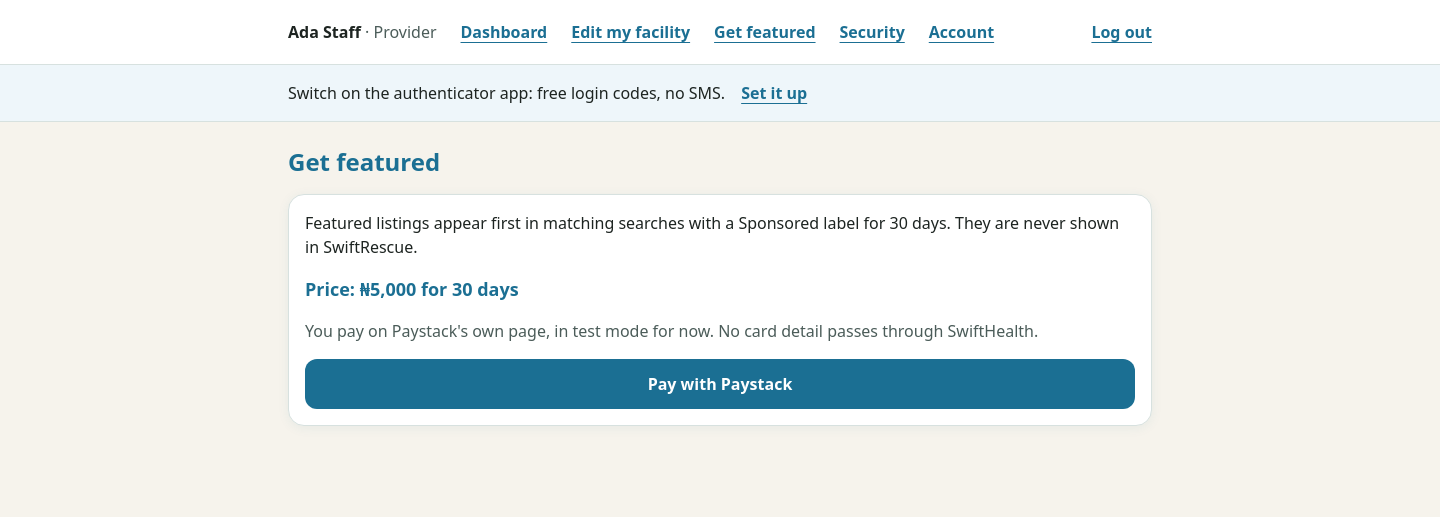
Test: get featured (/provider/featured) › refuses to go anywhere that is not an https address
Expected: the heading "Get featured" is shown, [288,145,440,178]
Click the button "Pay with Paystack" at (720, 384), box [305,359,1135,409]
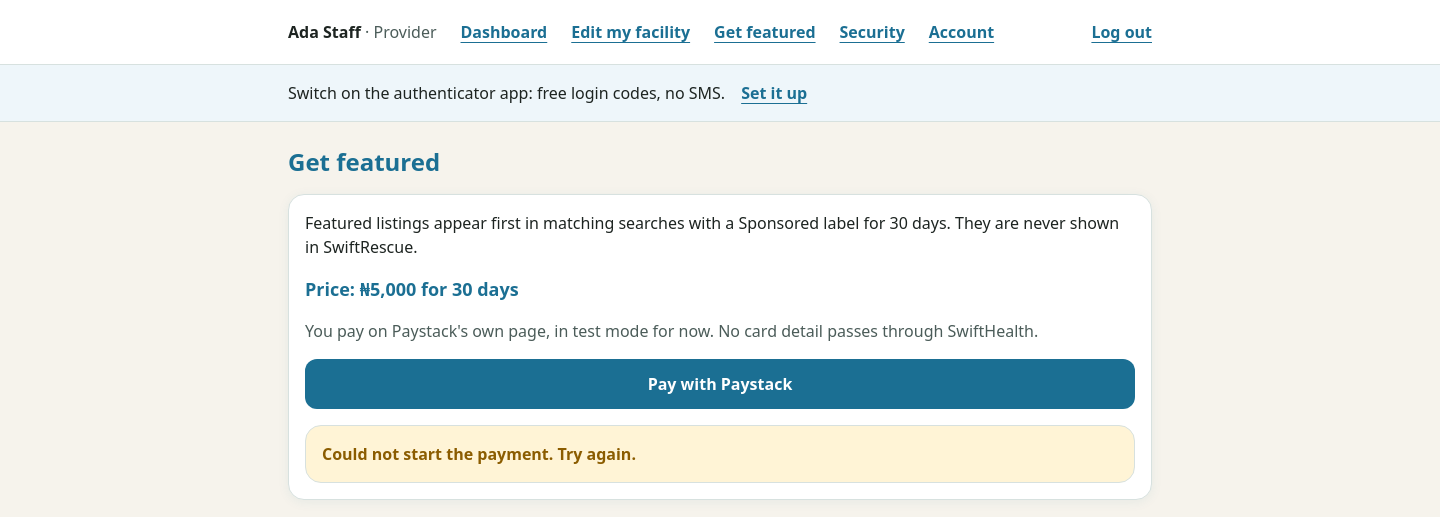
Now the message reads "Could not start the payment. Try again.", box [322,443,636,465]
